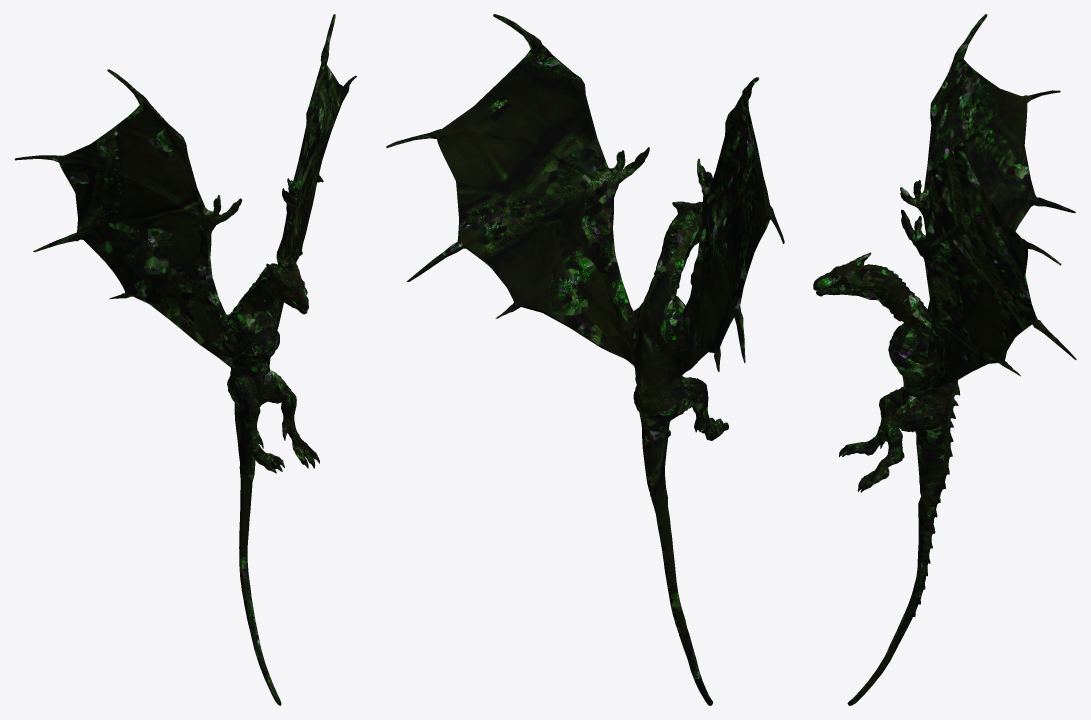
Rendered from frame_0022_uv.obj.
3 renders of one model, left to right at view 1: azimuth 30°, elevation 25°; view 2: azimuth 150°, elevation 25°; view 3: azimuth 270°, elevation 25°, orthographic. The views are drawn at different scales.
Visible parts, largest first — view 1: pMesh1; view 2: pMesh1; view 3: pMesh1.
Part boxes in pixels (x1,y1,x2,y2): pMesh1: [14, 14, 357, 705]; pMesh1: [386, 14, 784, 705]; pMesh1: [813, 14, 1076, 705].
Size of the model in its own units: 9.42 by 16.13 by 6.04.
